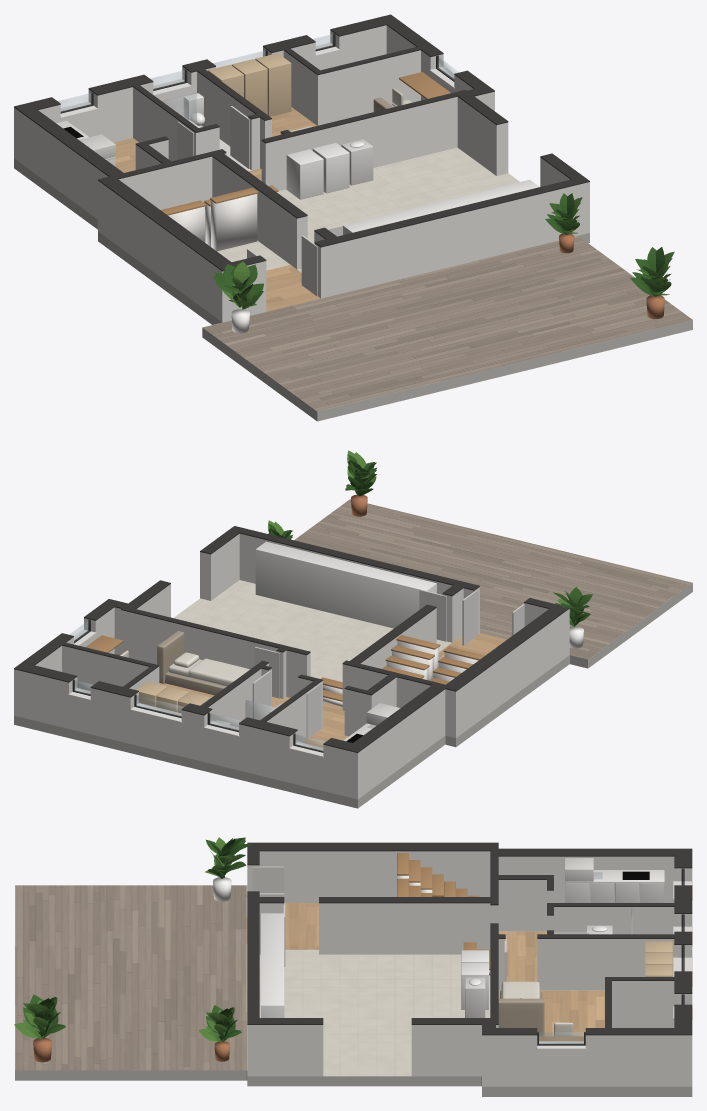
3 views of the same model, one above another, from view 1: azimuth 30°, elevation 25°; view 2: azimuth 150°, elevation 25°; view 3: azimuth 270°, elevation 25° (orthographic). The views are drawn at different scales.
Parts seen in each view (by area): view 1: floor, walls, caps, Cube.053, Cube.085, Cube.082, Cube.078, Cube.083, Cube.077, Cube.084, Cube.021, Cube.025 (+2 smaller); view 2: walls, floor, caps, Cube.085, sill.002, sill.001, sill, Cube.073, Cube.072, Cube.025, Cube.021, Cube.023 (+4 smaller); view 3: floor, walls, caps, Cube.085, sill.004, Cube.072, Cube.024, Cube.063, Cube.084, Cube.073, Cube.066, Cube.083 (+7 smaller).
Part boxes in pixels (x1,y1,x2,y2): floor: [14, 107, 692, 421]; walls: [14, 25, 589, 322]; caps: [14, 14, 589, 271]; Cube.053: [211, 194, 257, 251]; Cube.085: [343, 179, 539, 234]; Cube.082: [286, 149, 323, 199]; Cube.078: [255, 53, 291, 116]; Cube.083: [312, 143, 349, 193]; Cube.077: [231, 59, 267, 114]; Cube.084: [341, 139, 373, 185]; Cube.021: [230, 106, 249, 168]; Cube.025: [301, 235, 317, 296]; walls: [14, 533, 569, 799]; floor: [14, 499, 692, 808]; caps: [14, 526, 569, 752]; Cube.085: [255, 541, 436, 628]; sill.002: [130, 710, 181, 756]; sill.001: [204, 728, 238, 770]; sill: [289, 749, 323, 790]; Cube.073: [188, 658, 249, 686]; Cube.072: [157, 631, 184, 683]; Cube.025: [462, 590, 478, 645]; Cube.021: [252, 671, 270, 719]; Cube.023: [419, 590, 446, 641]; floor: [15, 885, 692, 1096]; walls: [247, 851, 692, 1086]; caps: [247, 842, 692, 1035]; Cube.085: [261, 913, 284, 1017]; sill.004: [537, 1049, 585, 1086]; Cube.072: [498, 998, 544, 1036]; Cube.024: [252, 866, 284, 893]; Cube.063: [565, 870, 664, 883]; Cube.084: [465, 977, 485, 1017]; Cube.073: [501, 981, 540, 998]; Cube.066: [565, 858, 593, 881]; Cube.083: [461, 963, 488, 1009].
Bounding box in the file's own units: 10.32 × 1.79 × 14.67.
23 materials, 1 textured.
